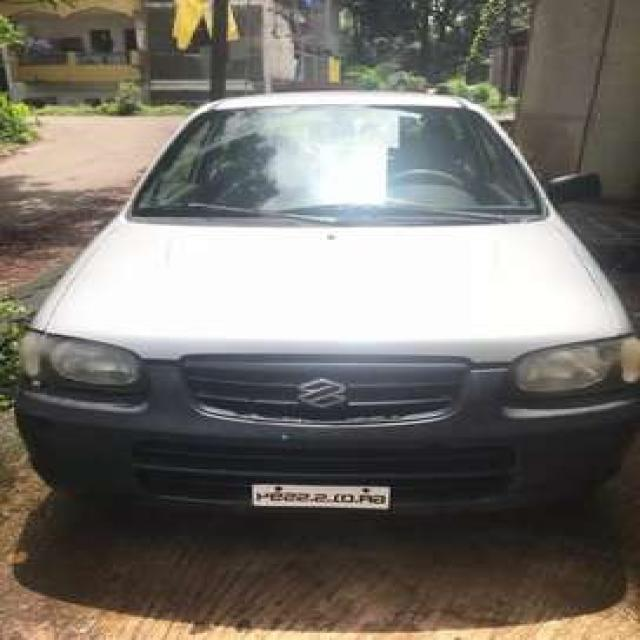license_plate: (248, 481, 394, 513)
